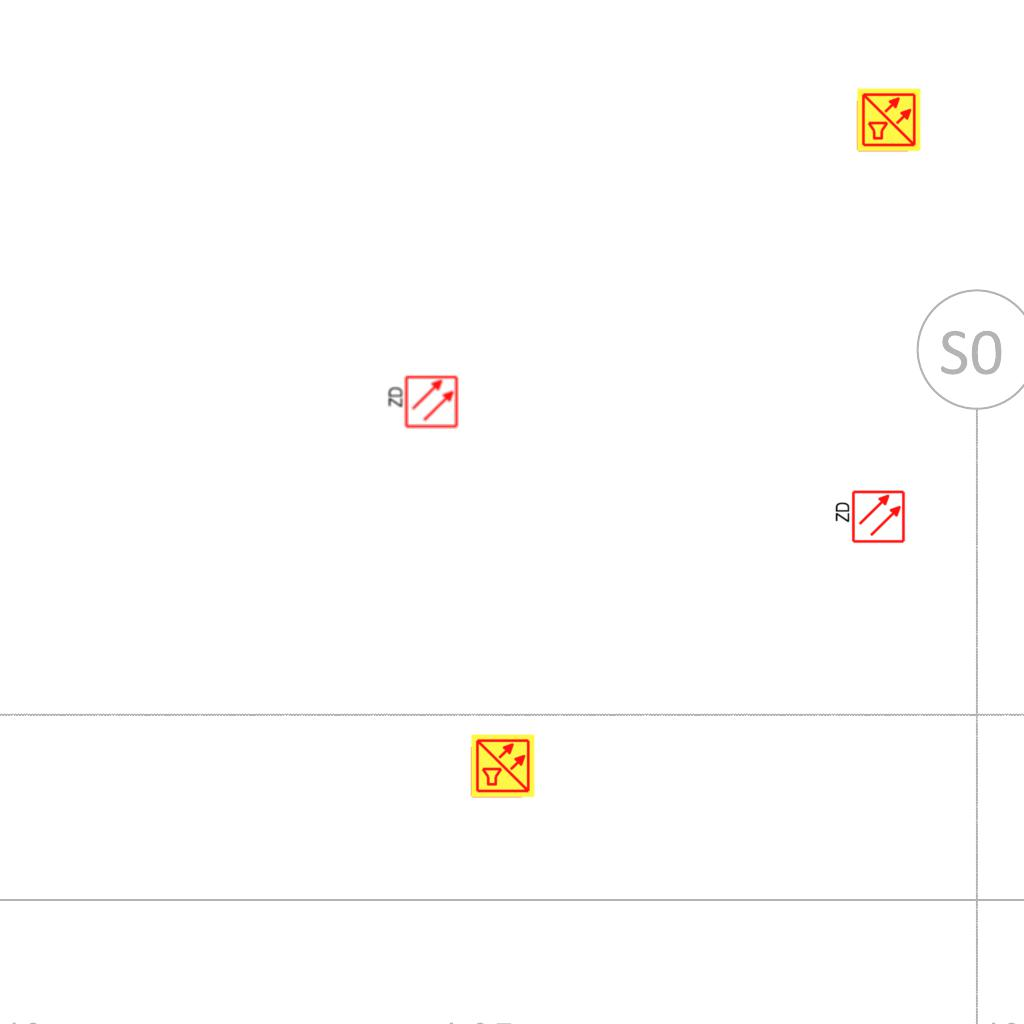OKW_Multisensormelder_(Kombination_optischer_Rauch-Kahlenmonoxid_Waerme-Melder): (856, 87, 922, 153), (470, 733, 536, 799)
ZD_Melder_in_Zwischendecke_mit_Revisionsoeffnung_mind_40_x_40_cm: (385, 374, 459, 431), (832, 489, 906, 546)
